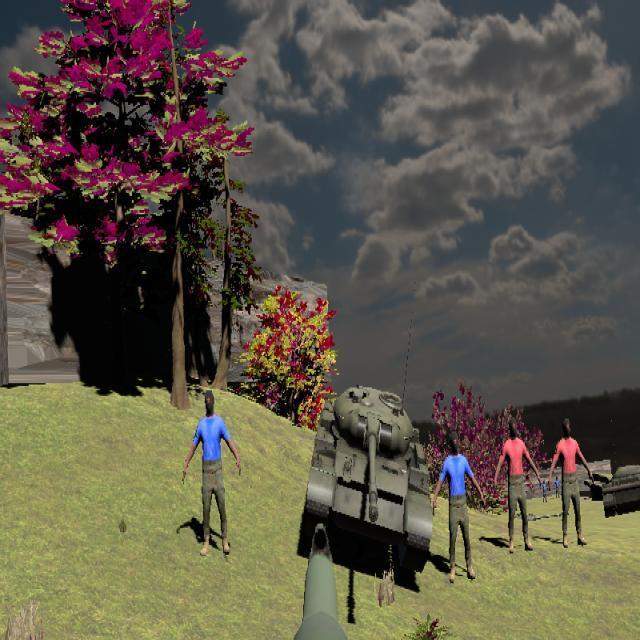Human: (182, 390, 241, 557), (433, 427, 486, 582), (494, 416, 542, 554), (549, 417, 593, 548)
Tank: (300, 385, 433, 573), (601, 454, 640, 518)
